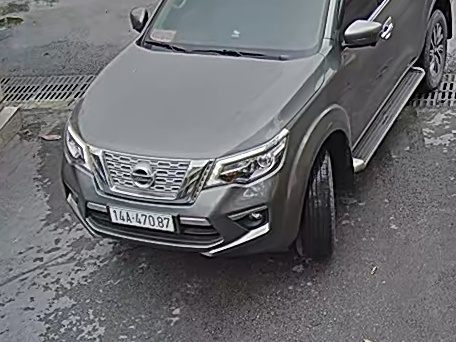vehicle plate: (104, 203, 176, 231)
